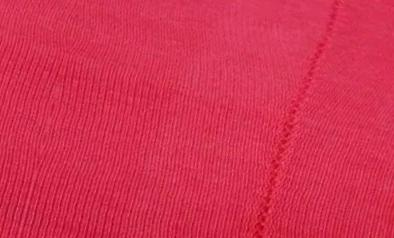slub: (249, 1, 346, 238)
